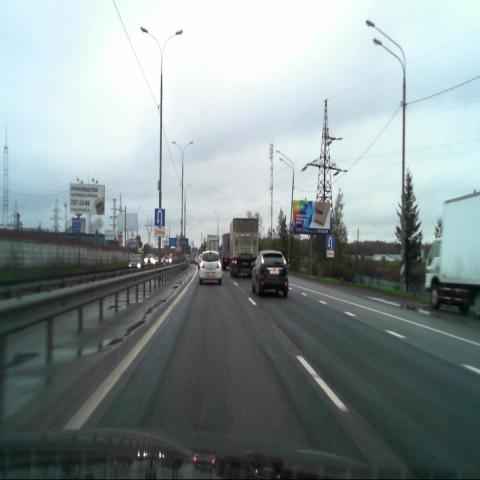6_3_1: (154, 208, 164, 225), (327, 235, 334, 249)
